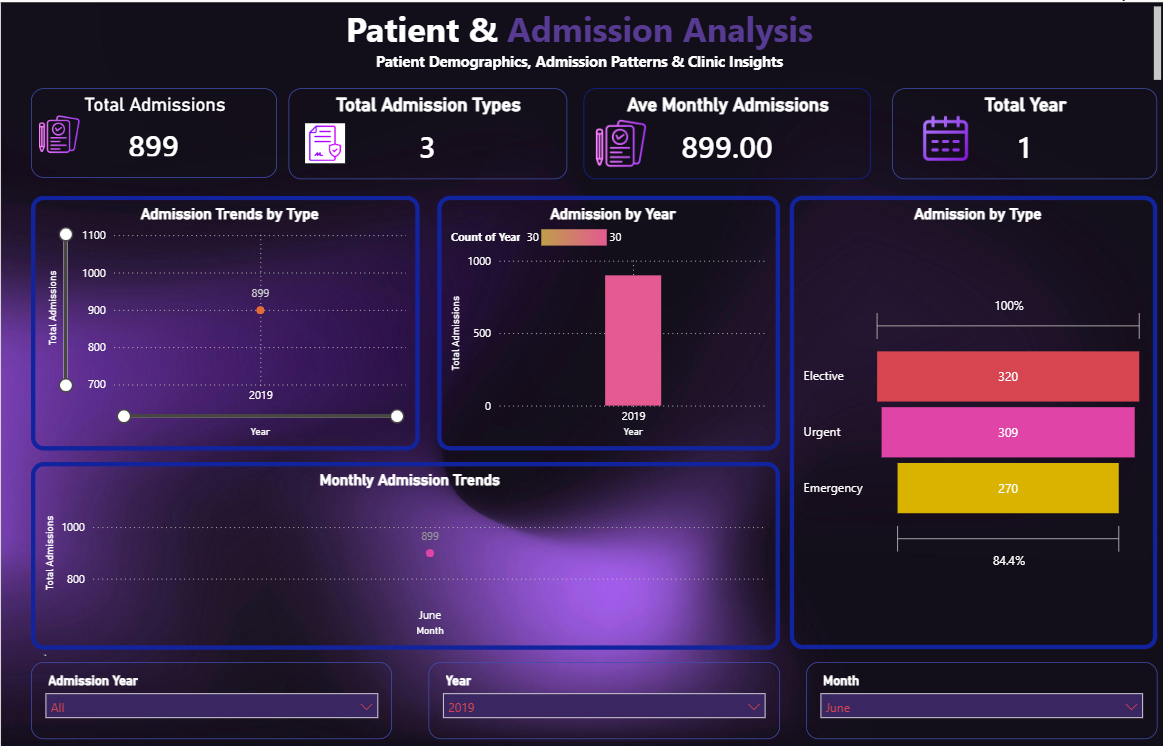

What the dashboard file says about the page in this screenshot:
{"tool":"powerbi","page":{"name":"Patient & Admission Analysis","canvas":[1280,820],"ordinal":1},"visuals":[{"type":"textbox","box":[0,0,1280.6,94.8],"z":0},{"type":"cardVisual","title":"Ave Monthly Admissions","fields":{"Data":["Fact_Patient_Admissions.Average Monthly Admissions"]},"box":[640.3,94.8,316,100.3],"z":1000},{"type":"cardVisual","title":"Total Admission Types","fields":{"Data":["Fact_Patient_Admissions.Total Admission Types"]},"box":[316,94.8,306.4,100.3],"z":2000},{"type":"group","id":"g1","title":"Group 1","box":[33,94.8,270.7,98.9],"z":3000},{"type":"cardVisual","title":"Total Year","fields":{"Data":["Fact_Patient_Admissions.Total Years"]},"box":[979.7,94.8,291.3,100.3],"z":4000},{"type":"image","box":[640.3,123.7,82.4,63.2],"z":5000},{"type":"image","box":[327,133.3,59.1,44],"z":6000},{"type":"image","box":[1000.3,122.3,75.6,55],"z":7000},{"type":"slicer","fields":{"Values":["Fact_Patient_Admissions.Admission Year"]},"box":[33,725.5,397.1,85.2],"z":8000},{"type":"slicer","fields":{"Values":["Date Table.Year"]},"box":[469.9,725.5,386.1,85.2],"z":9000},{"type":"slicer","fields":{"Values":["Date Table.Month"]},"box":[884.9,725.5,386.1,85.2],"z":10000},{"type":"cardVisual","title":"Total Admissions","fields":{"Data":["Fact_Patient_Admissions.Total Admissions"]},"box":[33,94.8,270.6,98.7],"z":11000,"group":"g1"},{"type":"lineChart","title":"Monthly Admission Trends","fields":{"Category":["Date Table.Month"],"Y":["Fact_Patient_Admissions.Total Admissions"]},"box":[33,505.6,823,206.1],"z":11000},{"type":"image","box":[38,111.9,51.1,68.1],"z":12000,"group":"g1"},{"type":"columnChart","title":"Admission by Year","fields":{"Category":["Date Table.Year"],"Y":["Fact_Patient_Admissions.Total Admissions"]},"box":[479.5,213,376.5,280.3],"z":12000},{"type":"funnel","title":"Admission by Type","fields":{"Category":["Fact_Patient_Admissions.Admission Type"],"Y":["Fact_Patient_Admissions.Total Admissions"]},"box":[867,213,404,498.8],"z":13000},{"type":"lineChart","title":"Admission Trends by Type","fields":{"Category":["Date Table.Year"],"Y":["Fact_Patient_Admissions.Total Admissions"]},"box":[33,213,427.3,280.3],"z":14000}]}

Visuals, with their boxes in screenshot pixels (x1, y1, x2, y2), scaled from the page's 1280x820 canvas onto the 1163x746 screenshot:
textbox: <bbox>0, 0, 1162, 86</bbox>
"Ave Monthly Admissions" cardVisual: <bbox>582, 86, 869, 177</bbox>
"Total Admission Types" cardVisual: <bbox>287, 86, 566, 177</bbox>
"Group 1" group: <bbox>30, 86, 276, 176</bbox>
"Total Year" cardVisual: <bbox>890, 86, 1155, 177</bbox>
image: <bbox>582, 113, 657, 170</bbox>
image: <bbox>297, 121, 351, 161</bbox>
image: <bbox>909, 111, 978, 161</bbox>
slicer - Fact_Patient_Admissions.Admission Year: <bbox>30, 660, 391, 738</bbox>
slicer - Date Table.Year: <bbox>427, 660, 778, 738</bbox>
slicer - Date Table.Month: <bbox>804, 660, 1155, 738</bbox>
"Total Admissions" cardVisual: <bbox>30, 86, 276, 176</bbox>
"Monthly Admission Trends" lineChart: <bbox>30, 460, 778, 647</bbox>
image: <bbox>35, 102, 81, 164</bbox>
"Admission by Year" columnChart: <bbox>436, 194, 778, 449</bbox>
"Admission by Type" funnel: <bbox>788, 194, 1155, 648</bbox>
"Admission Trends by Type" lineChart: <bbox>30, 194, 418, 449</bbox>
